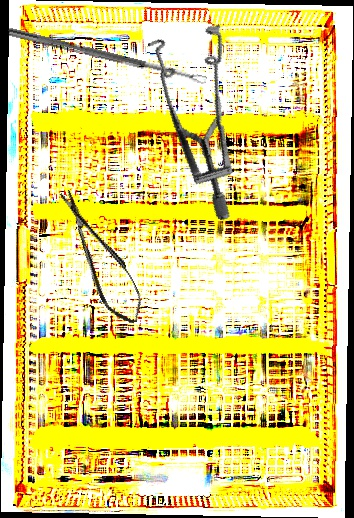Micro Scissor: (51, 181, 151, 332)
Speculum: (98, 3, 293, 223)
Surgical Spoon: (6, 27, 208, 86)
